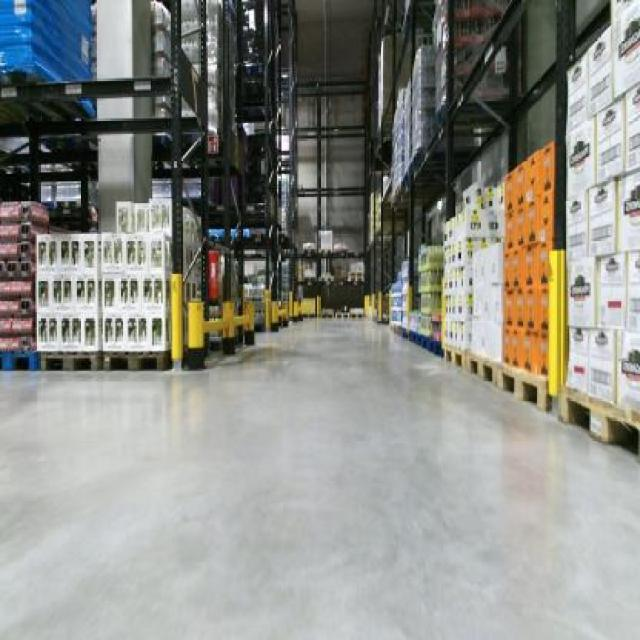pallet: (558, 379, 640, 471), (495, 356, 553, 414), (99, 349, 177, 378), (41, 347, 100, 379), (462, 344, 501, 391), (436, 338, 468, 370), (332, 310, 352, 322)
